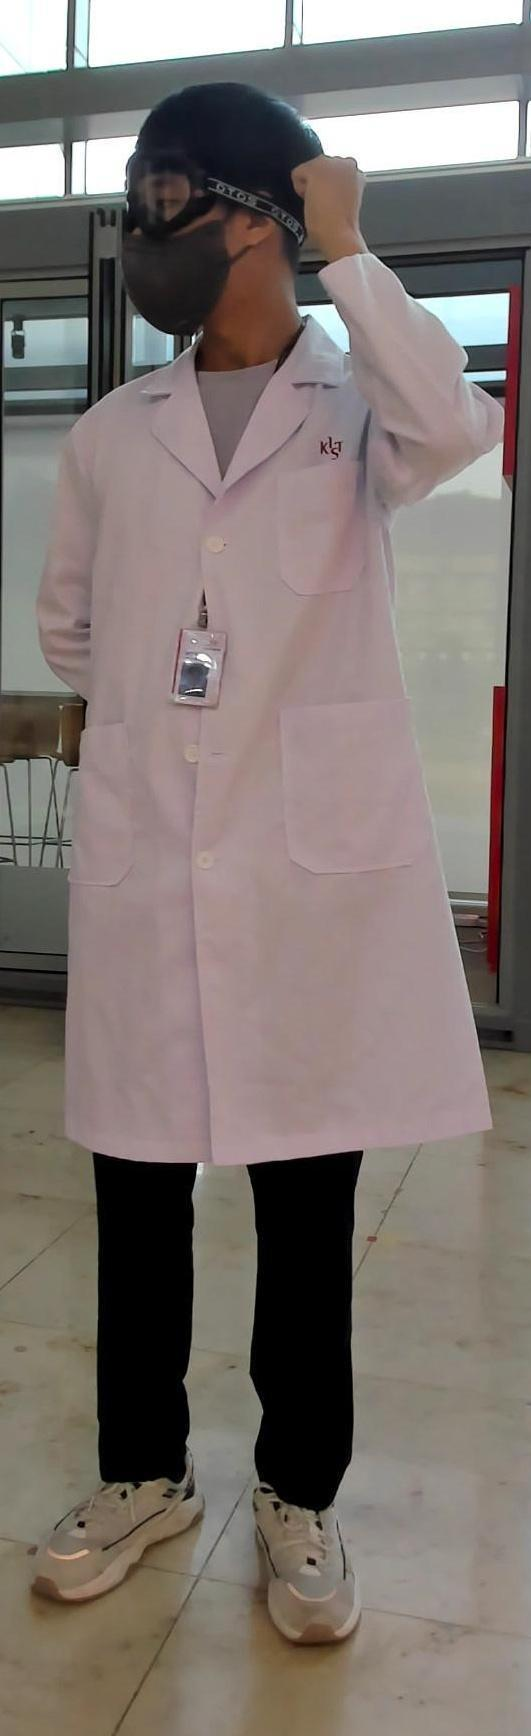lab_coat: (31, 391, 492, 1162)
